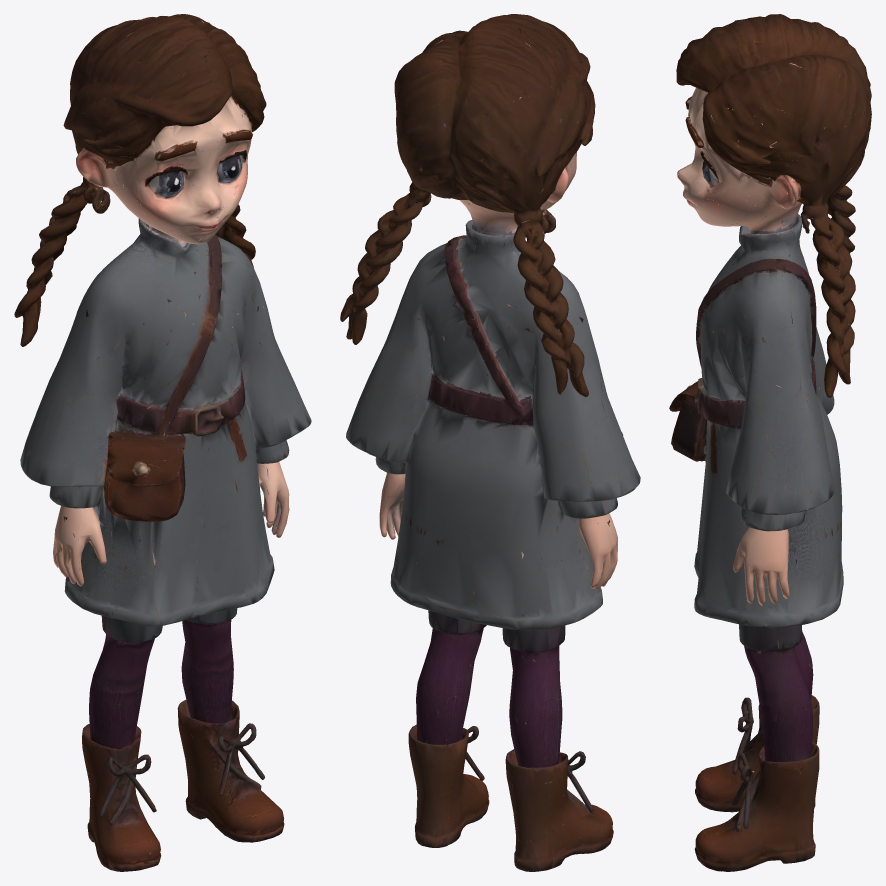
File: behoa.glb
The picture shows the model from 3 angles, left to right: view 1: azimuth 30°, elevation 25°; view 2: azimuth 150°, elevation 25°; view 3: azimuth 270°, elevation 25°; orthographic projection.
Parts seen in each view (by area): view 1: Object_5, Object_7, Object_6; view 2: Object_6, Object_5, Object_7; view 3: Object_5, Object_6, Object_7.
Boxes of the visible parts, x1=… form: Object_5: x1=49, y1=23, x2=299, y2=871; Object_7: x1=23, y1=18, x2=311, y2=865; Object_6: x1=14, y1=14, x2=260, y2=836; Object_6: x1=340, y1=19, x2=627, y2=871; Object_5: x1=348, y1=15, x2=623, y2=871; Object_7: x1=379, y1=14, x2=640, y2=868; Object_5: x1=669, y1=14, x2=828, y2=871; Object_6: x1=753, y1=14, x2=871, y2=857; Object_7: x1=683, y1=14, x2=801, y2=871.
Bounding box in the file's own units: 0.6721 × 1.9 × 0.4327.
Materials: 1 (1 with a texture image).
